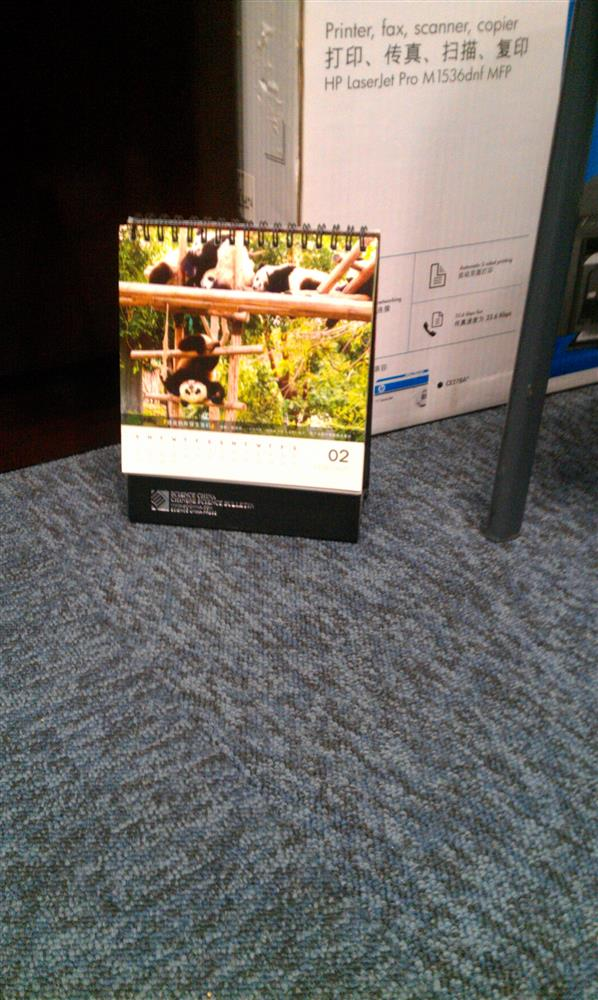panda_calendar: (110, 210, 385, 544)
